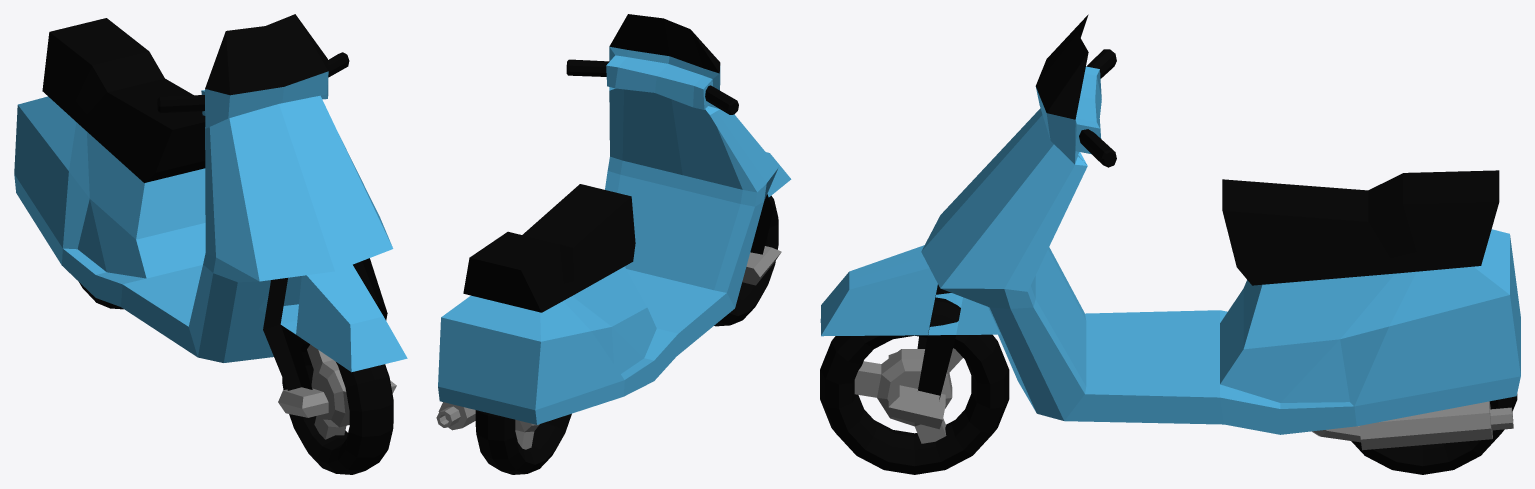
Rendered from scoot_bleu.fbx.
The picture shows the model from 3 angles, left to right: view 1: azimuth 30°, elevation 25°; view 2: azimuth 150°, elevation 25°; view 3: azimuth 270°, elevation 25°; orthographic projection. The views are drawn at different scales.
Parts seen in each view (by area): view 1: scoot, siege, roue_1, VITRE, chasi, gidon; view 2: scoot, siege, roue_2, VITRE, roue_1, chasi, gidon, echapement; view 3: scoot, siege, roue_1, echapement, chasi, roue_2, VITRE, gidon.
Part boxes in pixels (x1=…): scoot: x1=14, y1=71, x2=407, y2=372; siege: x1=42, y1=18, x2=205, y2=182; roue_1: x1=282, y1=335, x2=393, y2=474; VITRE: x1=205, y1=14, x2=328, y2=95; chasi: x1=263, y1=258, x2=396, y2=417; gidon: x1=157, y1=52, x2=349, y2=113; scoot: x1=438, y1=46, x2=791, y2=424; siege: x1=463, y1=184, x2=635, y2=312; roue_2: x1=475, y1=410, x2=571, y2=474; VITRE: x1=609, y1=14, x2=720, y2=73; roue_1: x1=714, y1=195, x2=778, y2=326; chasi: x1=742, y1=194, x2=781, y2=285; gidon: x1=566, y1=59, x2=738, y2=114; echapement: x1=436, y1=402, x2=475, y2=430; scoot: x1=820, y1=66, x2=1520, y2=434; siege: x1=1222, y1=170, x2=1499, y2=285; roue_1: x1=820, y1=297, x2=1009, y2=474; echapement: x1=1311, y1=401, x2=1513, y2=450; chasi: x1=888, y1=284, x2=955, y2=429; roue_2: x1=1351, y1=394, x2=1517, y2=474; VITRE: x1=1036, y1=14, x2=1088, y2=119; gidon: x1=1079, y1=49, x2=1116, y2=167.
Size of the model in its own units: 140 by 274 by 396.
